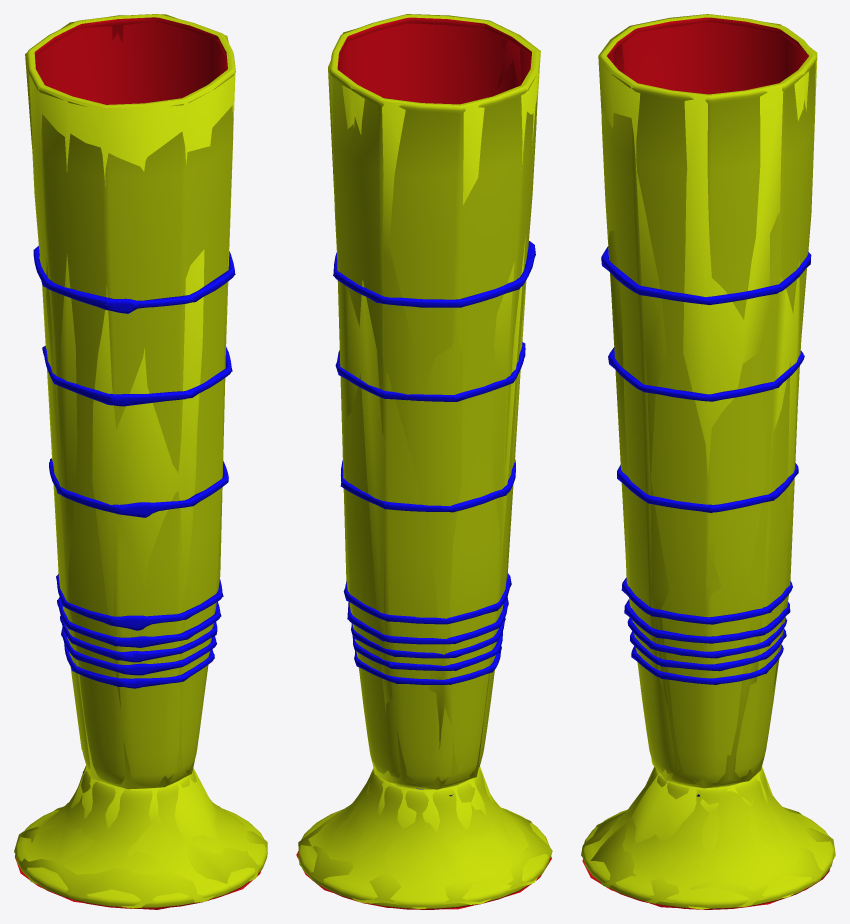
Rendered from pasglas.fbx.
The picture shows the model from 3 angles, left to right: view 1: azimuth 30°, elevation 25°; view 2: azimuth 150°, elevation 25°; view 3: azimuth 270°, elevation 25°; orthographic projection.
Visible parts, largest first — view 1: Pasglass, Pasglass.001; view 2: Pasglass, Pasglass.001; view 3: Pasglass, Pasglass.001.
Part boxes in pixels (x1,y1,x2,y2): Pasglass: (15, 14, 267, 908); Pasglass.001: (14, 14, 267, 909); Pasglass: (298, 14, 549, 909); Pasglass.001: (296, 14, 552, 909); Pasglass: (582, 14, 834, 909); Pasglass.001: (581, 14, 835, 909).
Size of the model in its own units: 8.35 by 29.11 by 8.39.
